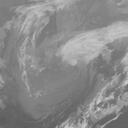cyclone: (40, 45, 100, 95)
